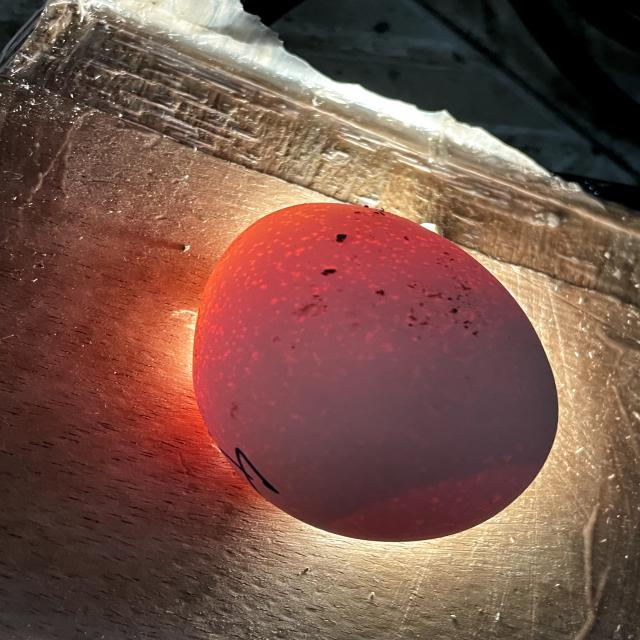fertile: (193, 203, 558, 541)
